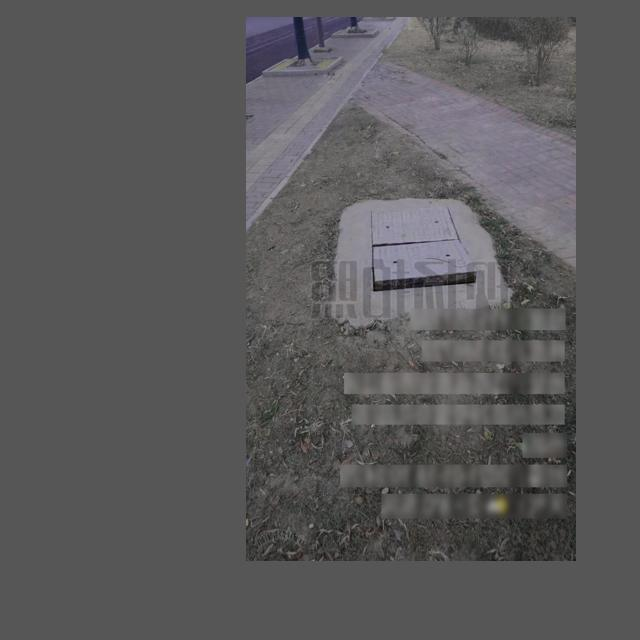uncovered: (367, 201, 478, 298)
